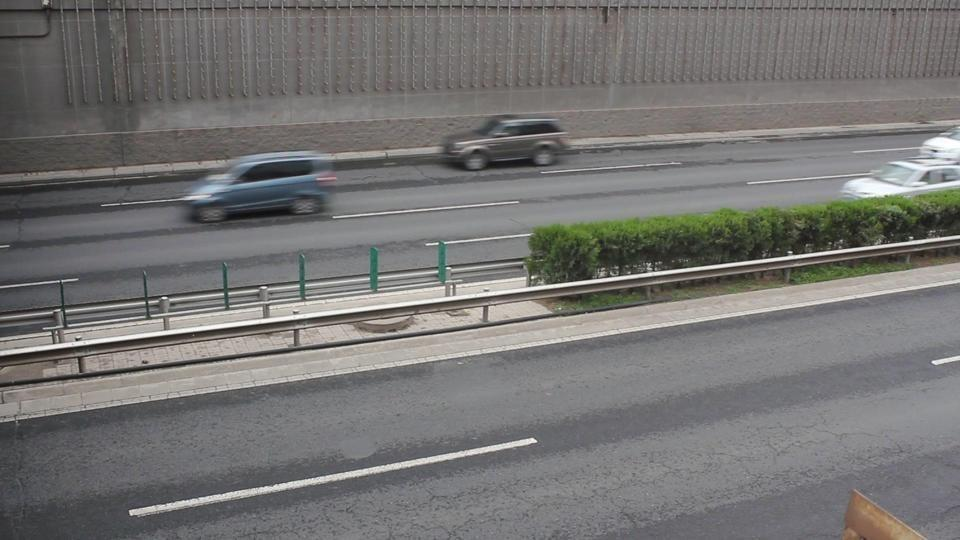car: (183, 152, 336, 223), (441, 115, 571, 171), (840, 156, 959, 200), (920, 126, 960, 163)
